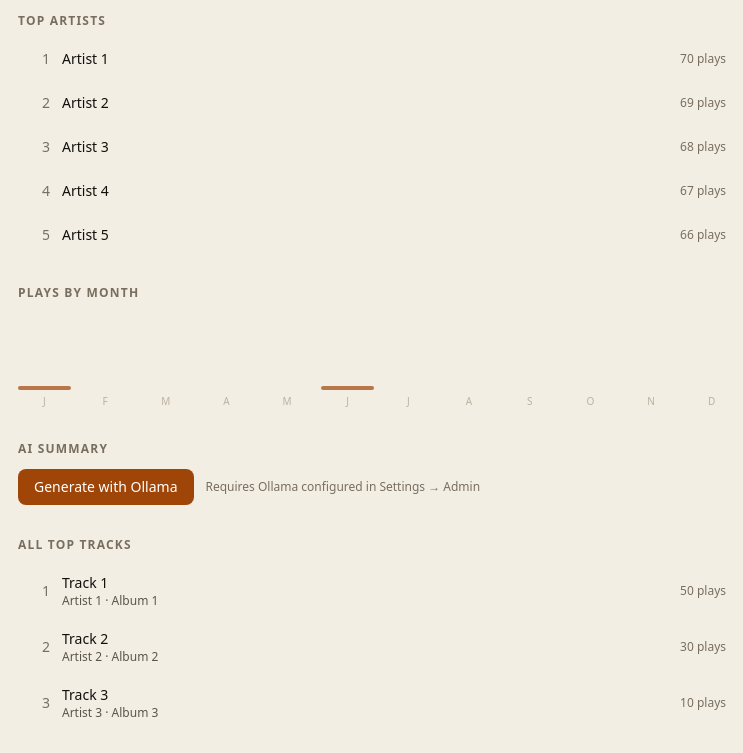
Scenario: WrappedPage — AI summary › shows the failure without the "Error: " prefix and lets the user retry
The image size is (743, 753).
(page scrolled)
Click the button "Generate with Ollama".
click(106, 487)  # box [18,469,194,505]
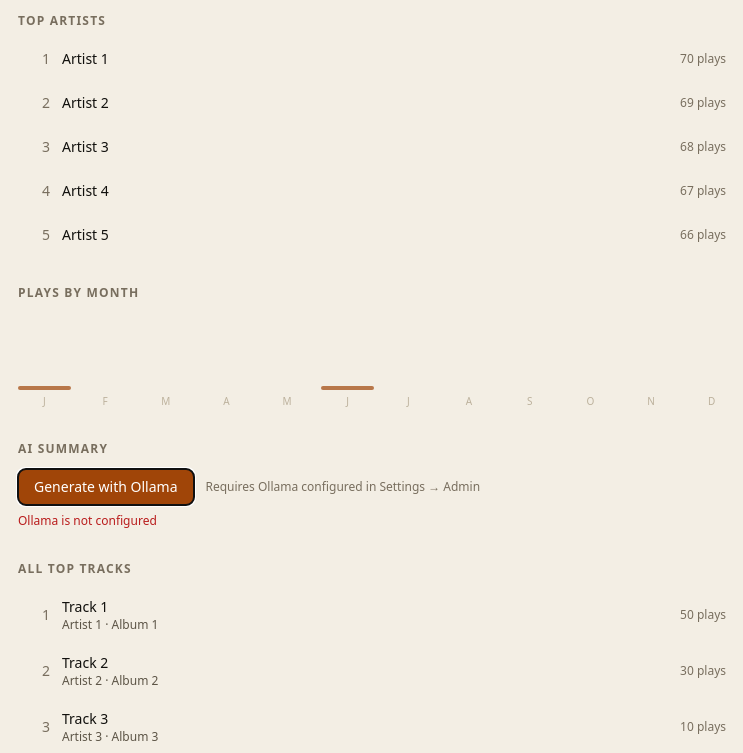
Expected: the text "Ollama is not configured" is shown, [18,512,157,529]
